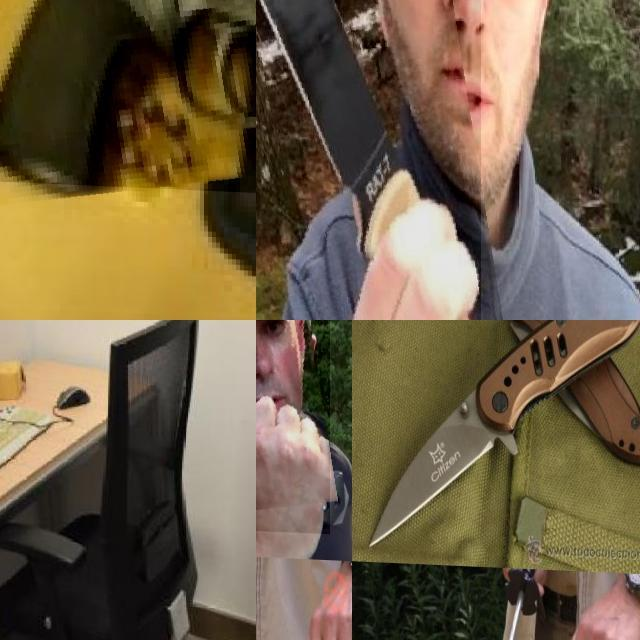-: (256, 0, 481, 320), (256, 320, 405, 531), (364, 376, 497, 554)
gun-knife-thesis - v11 Yolov5 augmented: (0, 0, 256, 221)
